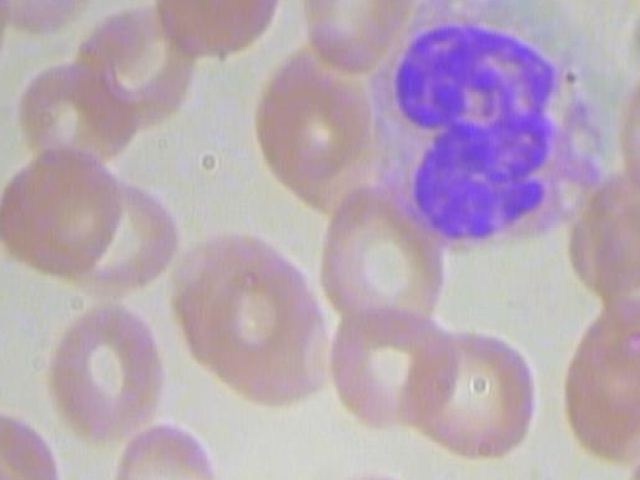RBC: (315, 183, 471, 342), (383, 307, 538, 466), (187, 259, 340, 417), (45, 297, 169, 435), (0, 143, 124, 274), (143, 0, 289, 70), (300, 0, 422, 77), (103, 423, 228, 480), (0, 389, 72, 480), (601, 62, 640, 211), (0, 0, 104, 39), (358, 467, 465, 480), (615, 436, 640, 480), (600, 0, 640, 10)
WBC: (354, 0, 621, 248)
